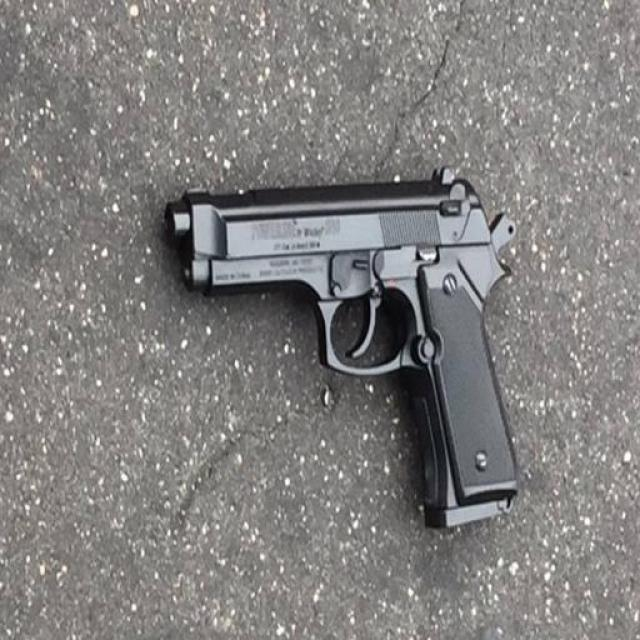pistol: (156, 175, 545, 531)
